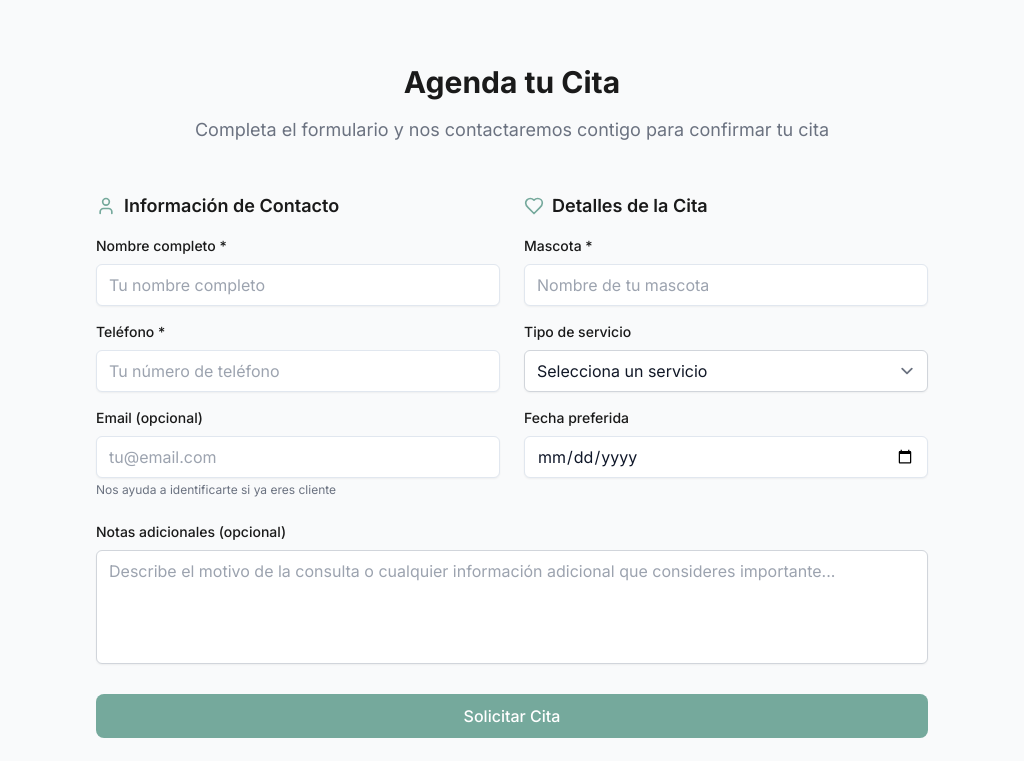
QuickBooking › Service Selection › should show custom service input when "Otro" is selected
Select "Otro (especificar)" in the dropdown labelled "Tipo de servicio": (726, 371) [524,350,928,392]
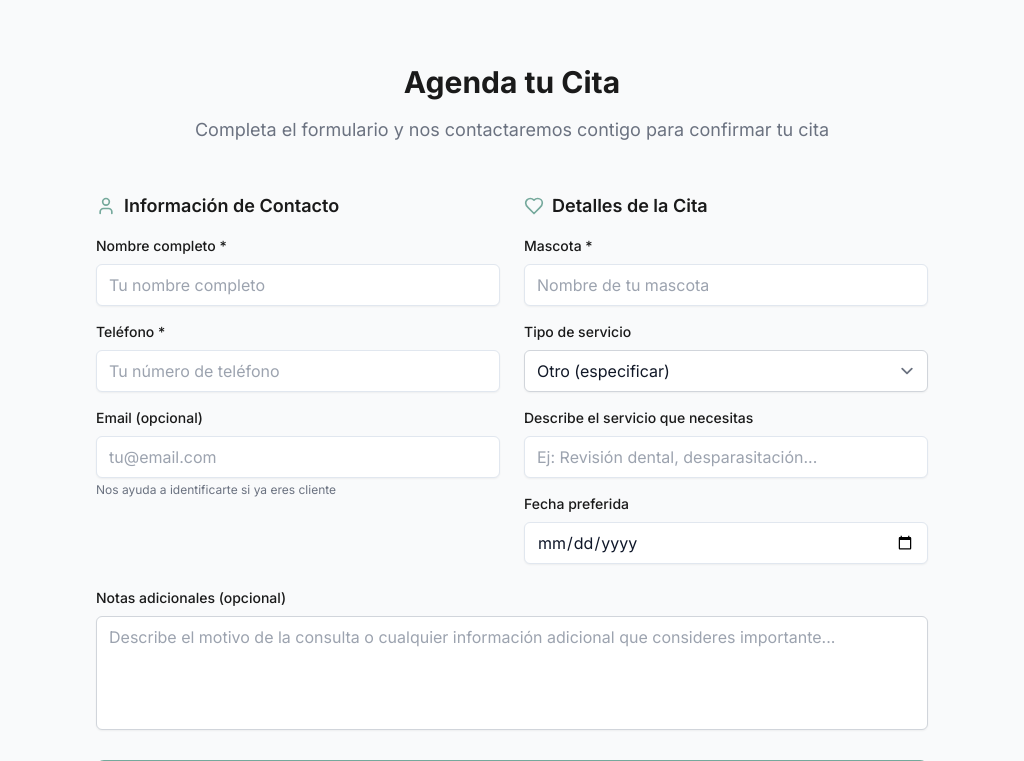
Expected: the field labelled "Describe el servicio que necesitas" is shown, [524,436,928,478]
